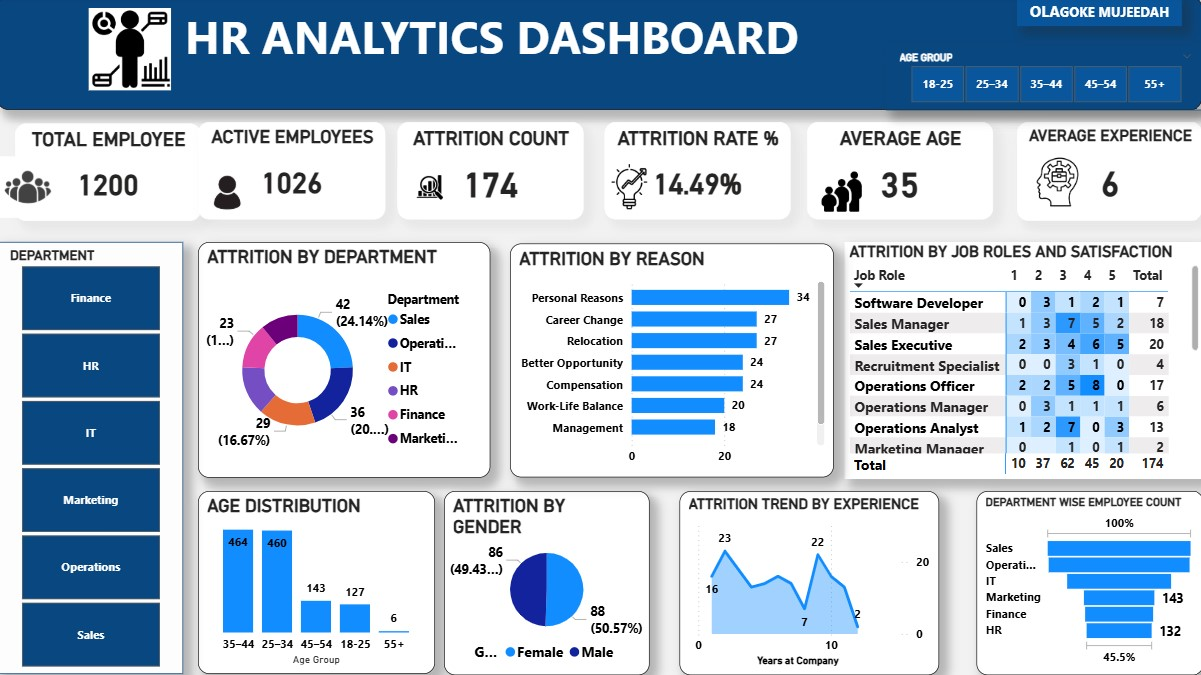

The page's visual inventory and layout, read from the dashboard file:
{"tool":"powerbi","page":{"name":"Page 1","canvas":[1280,720],"ordinal":0},"visuals":[{"type":"textbox","box":[0,0,1278.9,120.9],"z":0},{"type":"card","title":"TOTAL EMPLOYEE","fields":{"Values":["CountNonNull(HR Data.Employee ID)"]},"box":[19.1,135.2,197.2,103.4],"z":1000},{"type":"card","title":"ACTIVE EMPLOYEES","fields":{"Values":["CountNonNull(HR Data.Employee ID)"]},"box":[213.1,133.6,198.8,103.4],"z":2000},{"type":"card","title":"ATTRITION COUNT","fields":{"Values":["Sum(HR Data.ATTRITION FLAG)"]},"box":[424.7,133.6,197.2,103.4],"z":3000},{"type":"card","title":"ATTRITION RATE %","fields":{"Values":["HR Data.ATTRITION RATE%"]},"box":[644.2,133.6,197.2,103.4],"z":4000},{"type":"card","title":"AVERAGE AGE","fields":{"Values":["Avg(HR Data.Age)"]},"box":[858.9,133.6,197.2,103.4],"z":5000},{"type":"card","title":"AVERAGE EXPERIENCE","fields":{"Values":["Avg(HR Data.Years at Company)"]},"box":[1081.6,133.6,197.2,105],"z":6000},{"type":"image","box":[0,168.6,65.2,68.4],"z":7000},{"type":"image","box":[424.7,168.6,68.4,68.4],"z":8000},{"type":"donutChart","title":"ATTRITION BY DEPARTMENT","fields":{"Category":["HR Data.Department"],"Y":["Sum(HR Data.ATTRITION FLAG)"]},"box":[213.1,260.9,310.2,249.7],"z":9000},{"type":"pivotTable","title":"ATTRITION BY JOB ROLES AND SATISFACTION","fields":{"Rows":["HR Data.Job Role"],"Columns":["HR Data.Job Satisfaction"],"Values":["Sum(HR Data.ATTRITION FLAG)"]},"box":[898.7,260.9,381.7,251.3],"z":10000},{"type":"columnChart","title":"AGE DISTRIBUTION","fields":{"Category":["HR Data.Age Group"],"Y":["CountNonNull(HR Data.Employee ID)"]},"box":[213.1,524.9,251.3,194.1],"z":11000},{"type":"pieChart","title":" ATTRITION BY GENDER","fields":{"Category":["HR Data.Gender"],"Y":["Sum(HR Data.ATTRITION FLAG)"]},"box":[474,524.9,217.9,195.6],"z":12000},{"type":"funnel","title":"DEPARTMENT WISE EMPLOYEE COUNT","fields":{"Category":["HR Data.Department"],"Y":["CountNonNull(HR Data.Employee ID)"]},"box":[1038,525,242,195],"z":13000},{"type":"areaChart","title":"ATTRITION TREND BY EXPERIENCE","fields":{"Category":["HR Data.Years at Company"],"Y2":["Sum(HR Data.ATTRITION FLAG)"]},"box":[723.7,524.9,275.2,195.6],"z":14000},{"type":"clusteredBarChart","title":"ATTRITION BY REASON","fields":{"Category":["HR Data.Reason for Leaving"],"Y":["Sum(HR Data.ATTRITION FLAG)"]},"box":[544,262.5,343.6,248.1],"z":15000},{"type":"slicer","fields":{"Values":["HR Data.Department"]},"box":[0,260.9,197.2,458.1],"z":16000},{"type":"slicer","fields":{"Values":["HR Data.Age Group"]},"box":[943.2,52.5,337.2,68.4],"z":17000},{"type":"image","box":[65.2,12.7,151.1,87.5],"z":18000},{"type":"image","box":[863.7,186.1,63.6,42.9],"z":19000},{"type":"image","box":[213.1,186.1,62,44.5],"z":20000},{"type":"image","box":[644.2,178.1,52.5,47.7],"z":21000},{"type":"image","box":[1089.6,168.6,70,57.3],"z":22000},{"type":"textbox","box":[1081.6,0,175,31.8],"z":23000}]}

Visuals, with their boxes in screenshot pixels (x1, y1, x2, y2), scaled from the page's 1280x720 canvas onto the 1201x675 screenshot:
textbox: bbox(0, 0, 1200, 113)
"TOTAL EMPLOYEE" card: bbox(18, 127, 203, 224)
"ACTIVE EMPLOYEES" card: bbox(200, 125, 386, 222)
"ATTRITION COUNT" card: bbox(398, 125, 584, 222)
"ATTRITION RATE %" card: bbox(604, 125, 789, 222)
"AVERAGE AGE" card: bbox(806, 125, 991, 222)
"AVERAGE EXPERIENCE" card: bbox(1015, 125, 1200, 224)
image: bbox(0, 158, 61, 222)
image: bbox(398, 158, 463, 222)
"ATTRITION BY DEPARTMENT" donutChart: bbox(200, 245, 491, 479)
"ATTRITION BY JOB ROLES AND SATISFACTION" pivotTable: bbox(843, 245, 1200, 480)
"AGE DISTRIBUTION" columnChart: bbox(200, 492, 436, 674)
" ATTRITION BY GENDER" pieChart: bbox(445, 492, 649, 674)
"DEPARTMENT WISE EMPLOYEE COUNT" funnel: bbox(974, 492, 1200, 674)
"ATTRITION TREND BY EXPERIENCE" areaChart: bbox(679, 492, 937, 674)
"ATTRITION BY REASON" clusteredBarChart: bbox(510, 246, 833, 479)
slicer - HR Data.Department: bbox(0, 245, 185, 674)
slicer - HR Data.Age Group: bbox(885, 49, 1200, 113)
image: bbox(61, 12, 203, 94)
image: bbox(810, 174, 870, 215)
image: bbox(200, 174, 258, 216)
image: bbox(604, 167, 654, 212)
image: bbox(1022, 158, 1088, 212)
textbox: bbox(1015, 0, 1179, 30)
